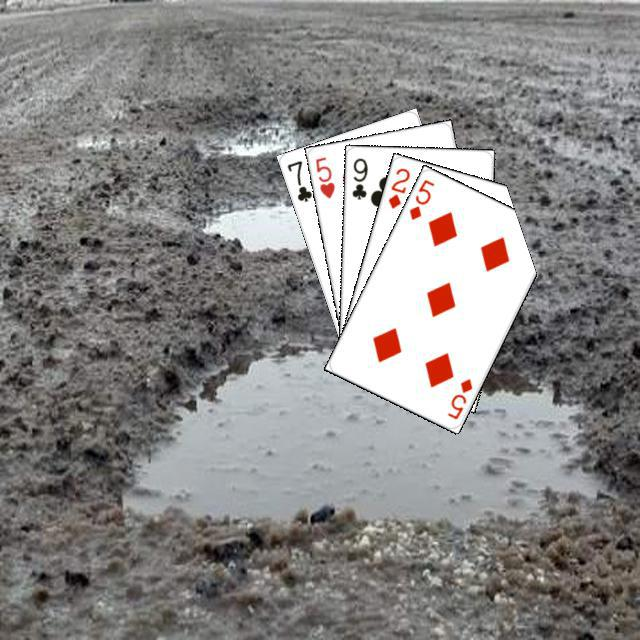2d: (383, 163, 412, 210)
5d: (442, 373, 474, 421), (404, 175, 436, 222)
5h: (310, 152, 336, 200)
7c: (282, 155, 314, 204)
9c: (347, 153, 369, 201)
